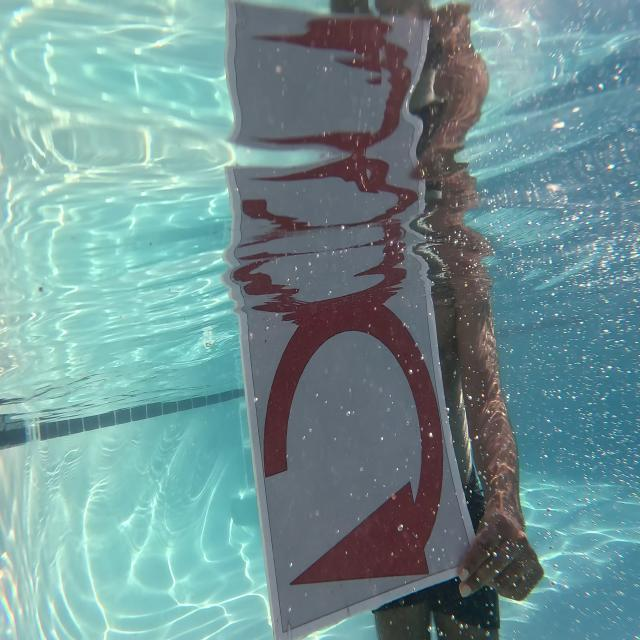red_side: (247, 296, 474, 636)
